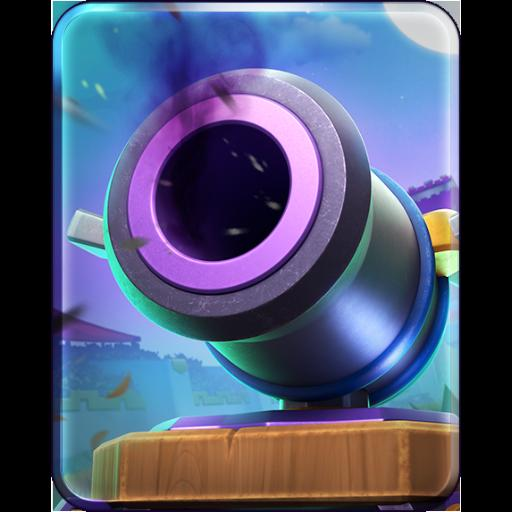cannon-evo: (63, 14, 449, 500)
